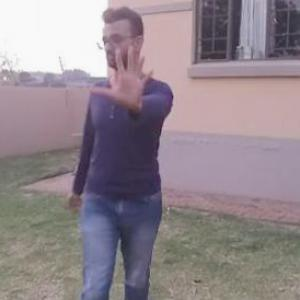follow_hand: (87, 39, 158, 113)
